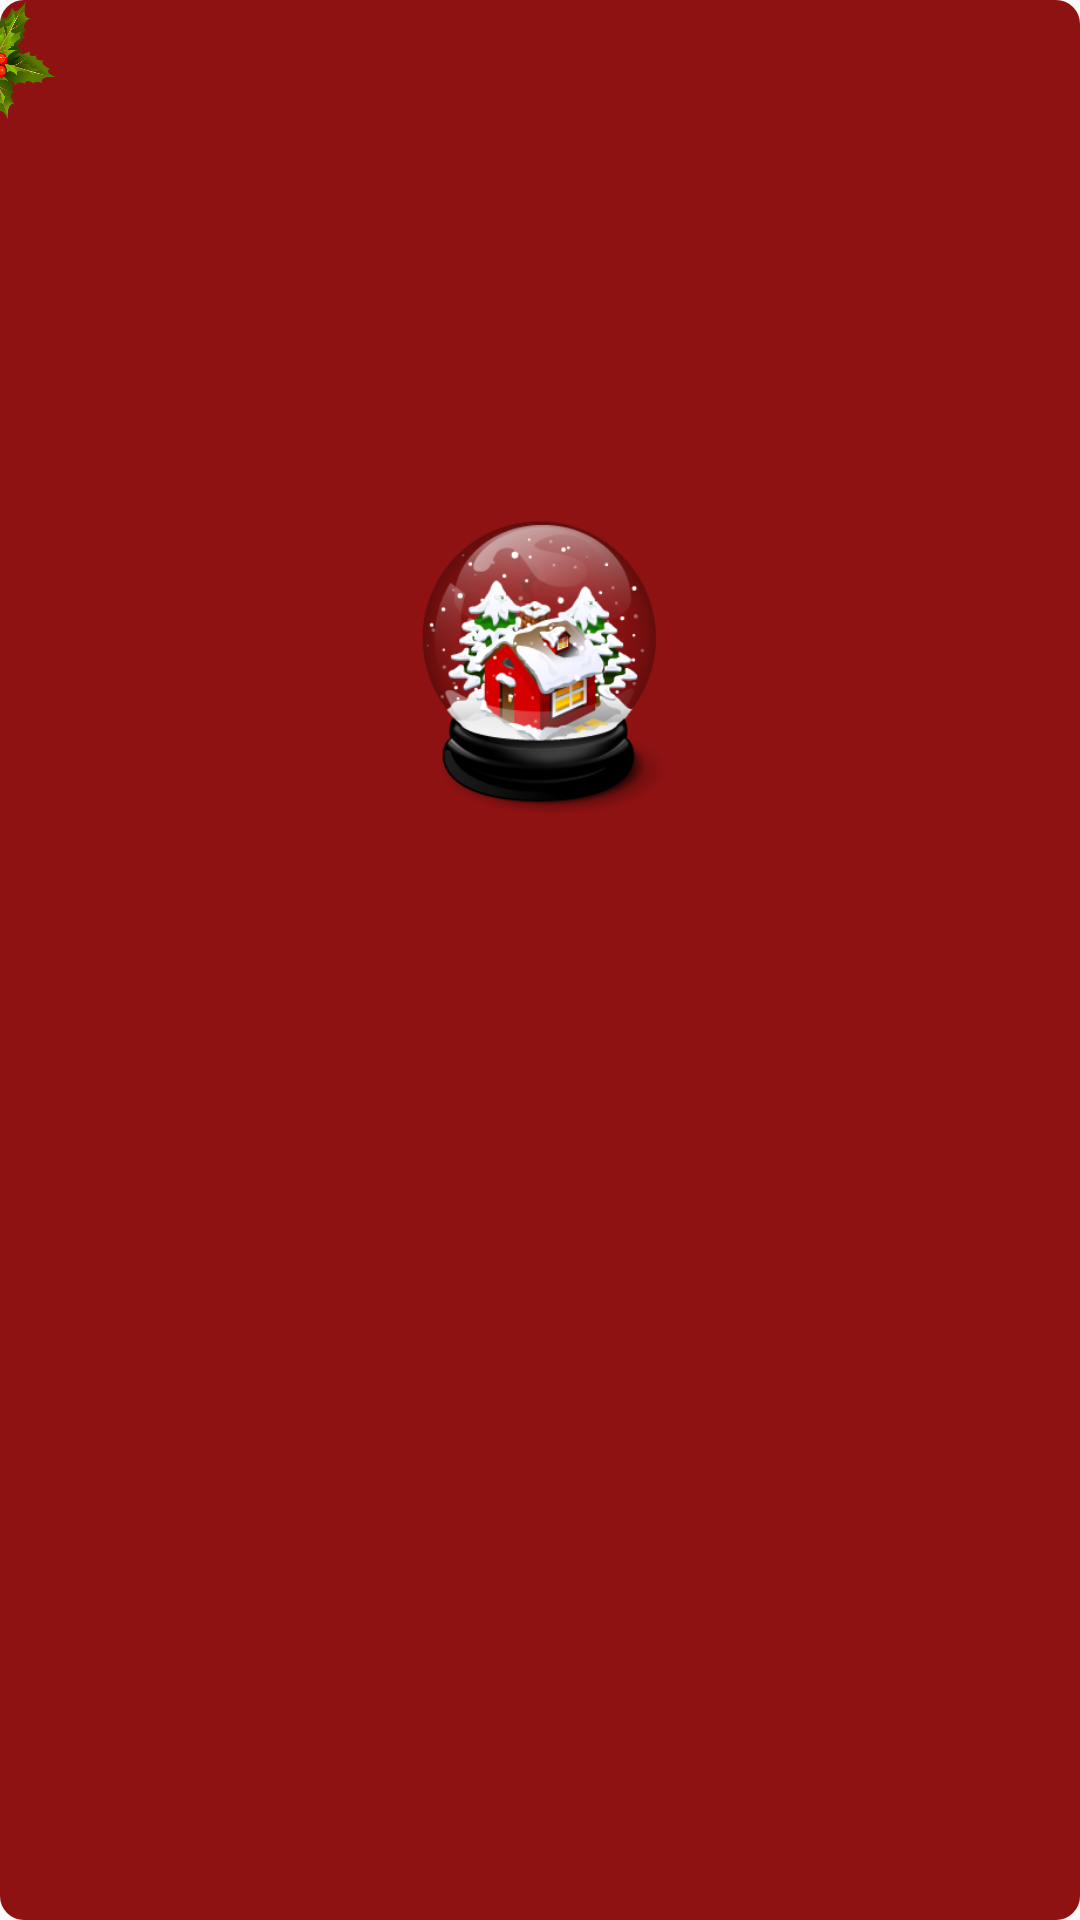

Where to tap for icons on this 1080px x 1920px app screen, as (x,y):
christmas house: (539,664)
